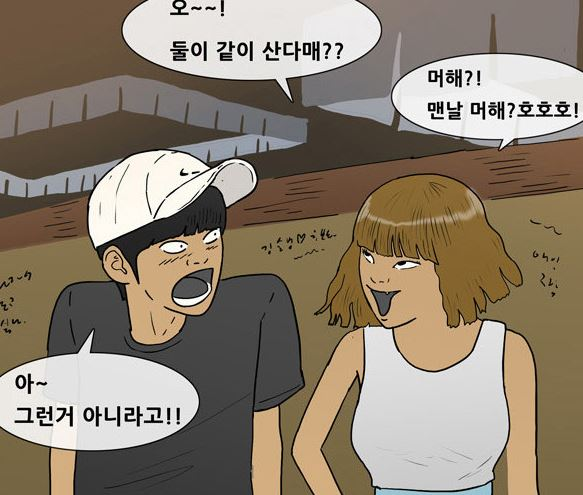hat: (84, 144, 267, 251)
